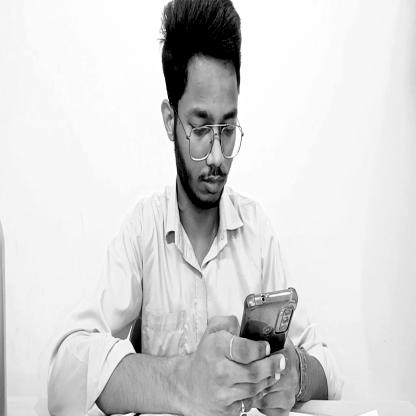Distracted: (162, 0, 247, 218)
